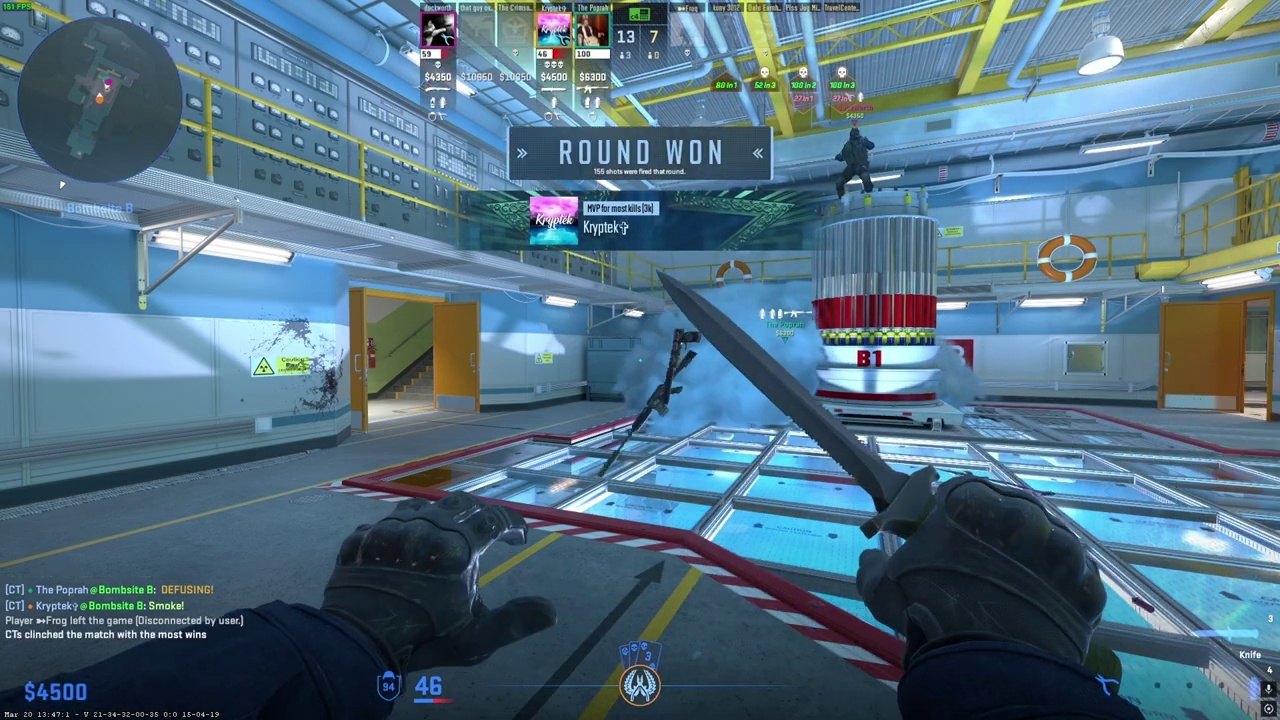CT: (836, 127, 875, 199)
